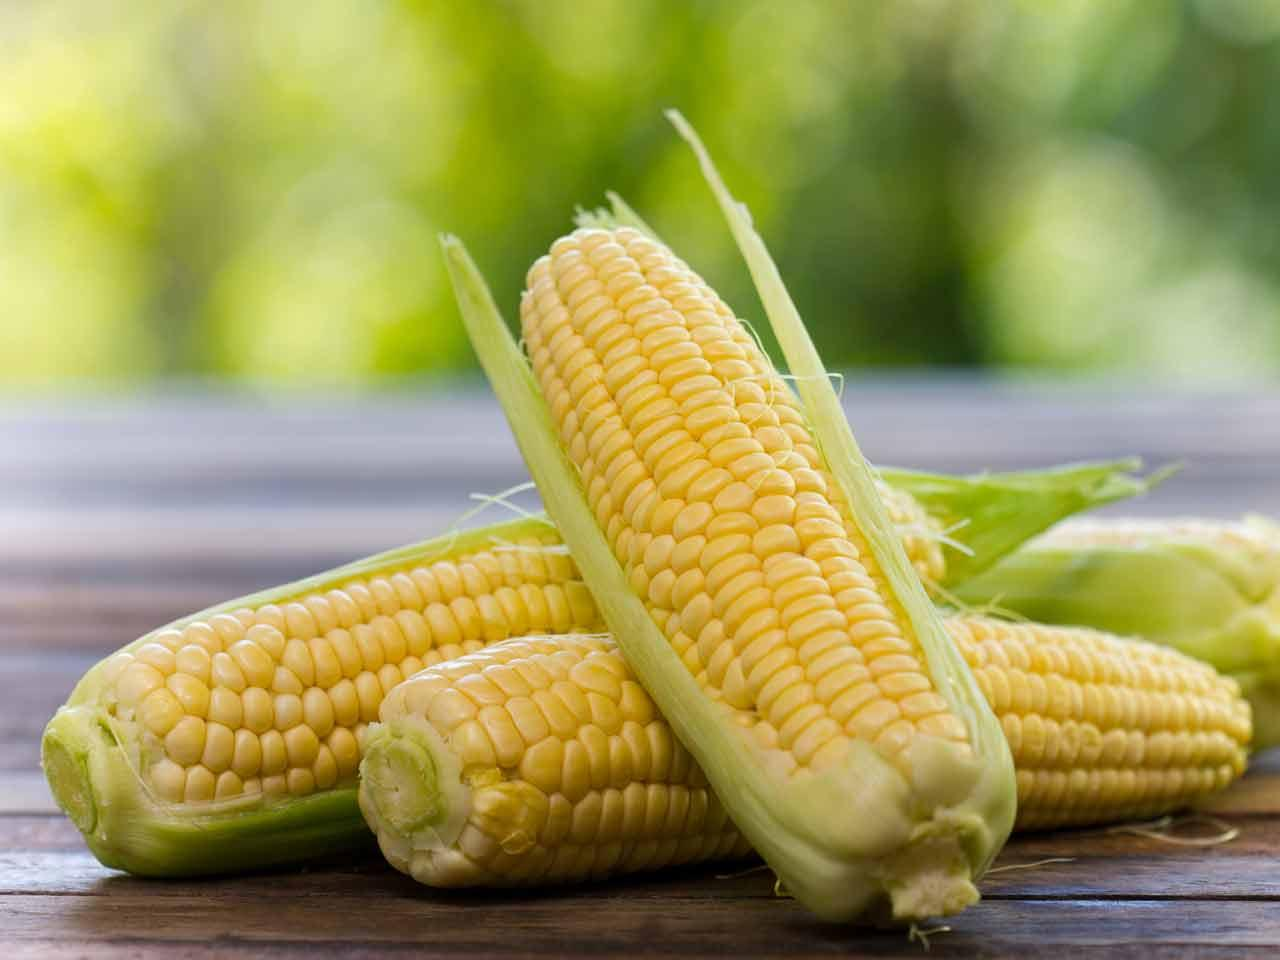sweetcorn: (39, 114, 1273, 921), (43, 503, 1259, 882), (511, 220, 1021, 933), (39, 513, 607, 879), (355, 628, 757, 889), (941, 512, 1277, 756), (937, 607, 1255, 830)
